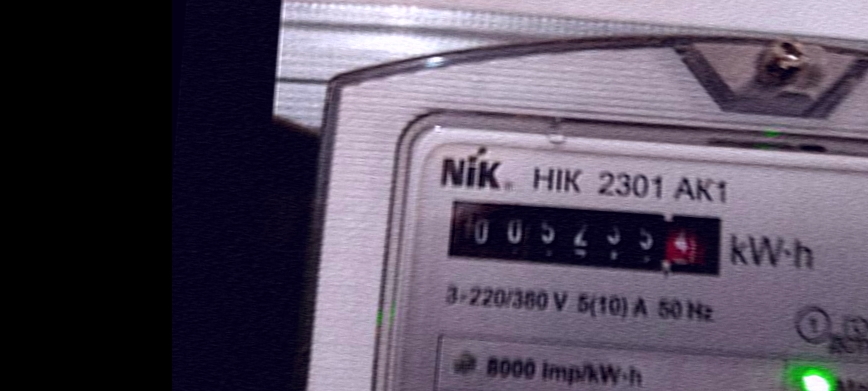0: (504, 215, 527, 249), (472, 216, 492, 249)
2: (570, 217, 594, 253)
3: (602, 218, 629, 252)
4: (671, 223, 696, 261)
5: (636, 219, 661, 257), (538, 216, 560, 250)
screen: (431, 184, 739, 295)
